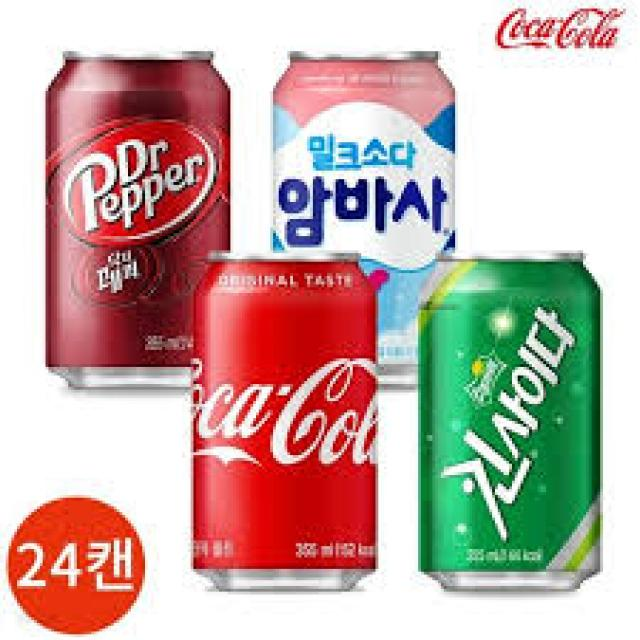Coca-Cola: (180, 240, 390, 598)
